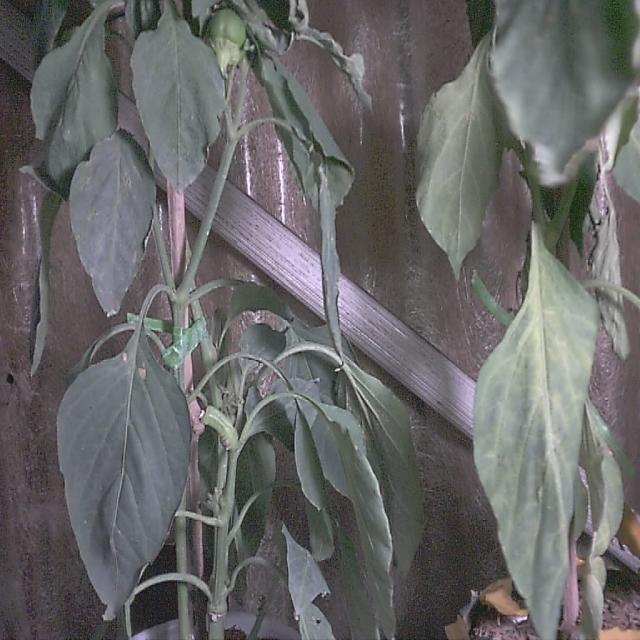Leaf: (474, 225, 599, 637), (58, 332, 191, 619), (491, 0, 637, 184), (416, 36, 501, 277), (131, 0, 224, 191), (70, 130, 155, 315)
